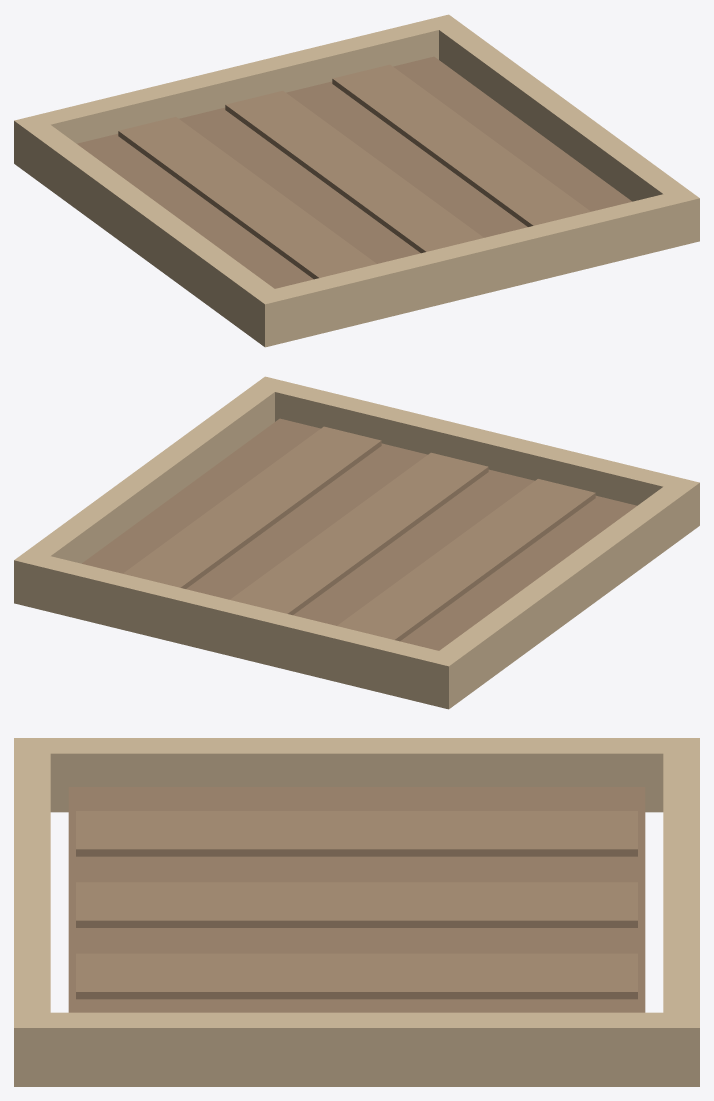
The model's file is farm_plot.fbx.
3 views of the same model, one above another, from view 1: azimuth 30°, elevation 25°; view 2: azimuth 150°, elevation 25°; view 3: azimuth 270°, elevation 25° (orthographic). The views are drawn at different scales.
Visible parts, largest first — view 1: EN_farm_plot; view 2: EN_farm_plot; view 3: EN_farm_plot.
Part boxes in pixels (x1,y1,x2,y2): EN_farm_plot: [14, 14, 699, 347]; EN_farm_plot: [14, 376, 699, 709]; EN_farm_plot: [14, 738, 699, 1086].
Size of the model in its own units: 169 by 16 by 169.
